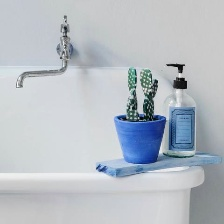bottle: (160, 82, 198, 158)
